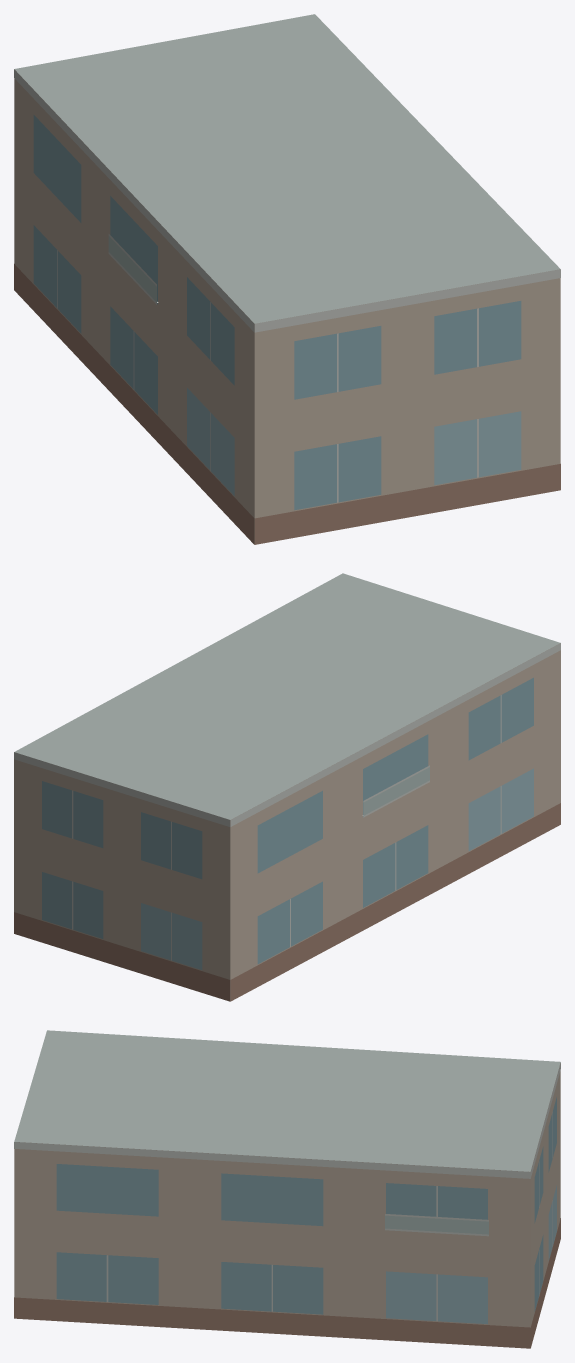
Rendered from survey-upis-32814287.glb.
The picture shows the model from 3 angles, top to bottom: view 1: azimuth 30°, elevation 25°; view 2: azimuth 150°, elevation 25°; view 3: azimuth 270°, elevation 25°; orthographic projection. The views are drawn at different scales.
Parts seen in each view (by area): view 1: survey-upis-32814287.tmp; view 2: survey-upis-32814287.tmp; view 3: survey-upis-32814287.tmp.
Boxes of the visible parts, left/top/right/bottom form: survey-upis-32814287.tmp: left=14, top=14, right=560, bottom=544; survey-upis-32814287.tmp: left=14, top=573, right=560, bottom=1001; survey-upis-32814287.tmp: left=14, top=1030, right=560, bottom=1348.
Bounding box in the file's own units: 10.49 × 6.1 × 17.11.
